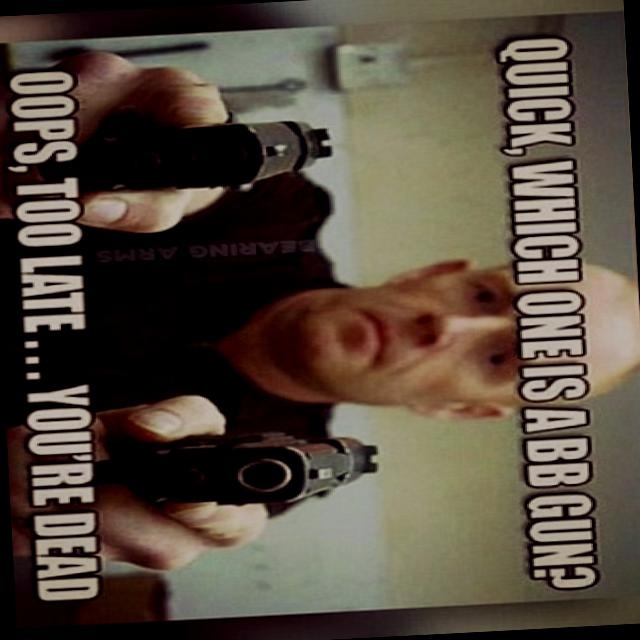handgun: (70, 424, 390, 517), (46, 110, 349, 198)
